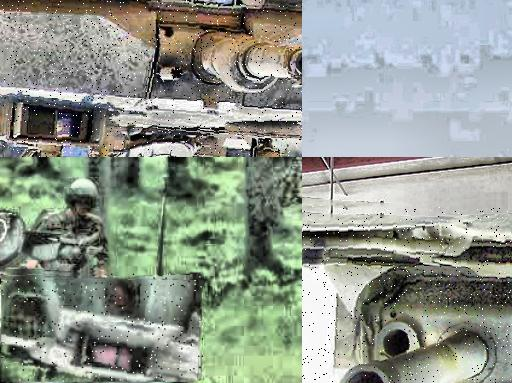tanks: (1, 1, 303, 158), (303, 210, 512, 383), (2, 275, 205, 383)
